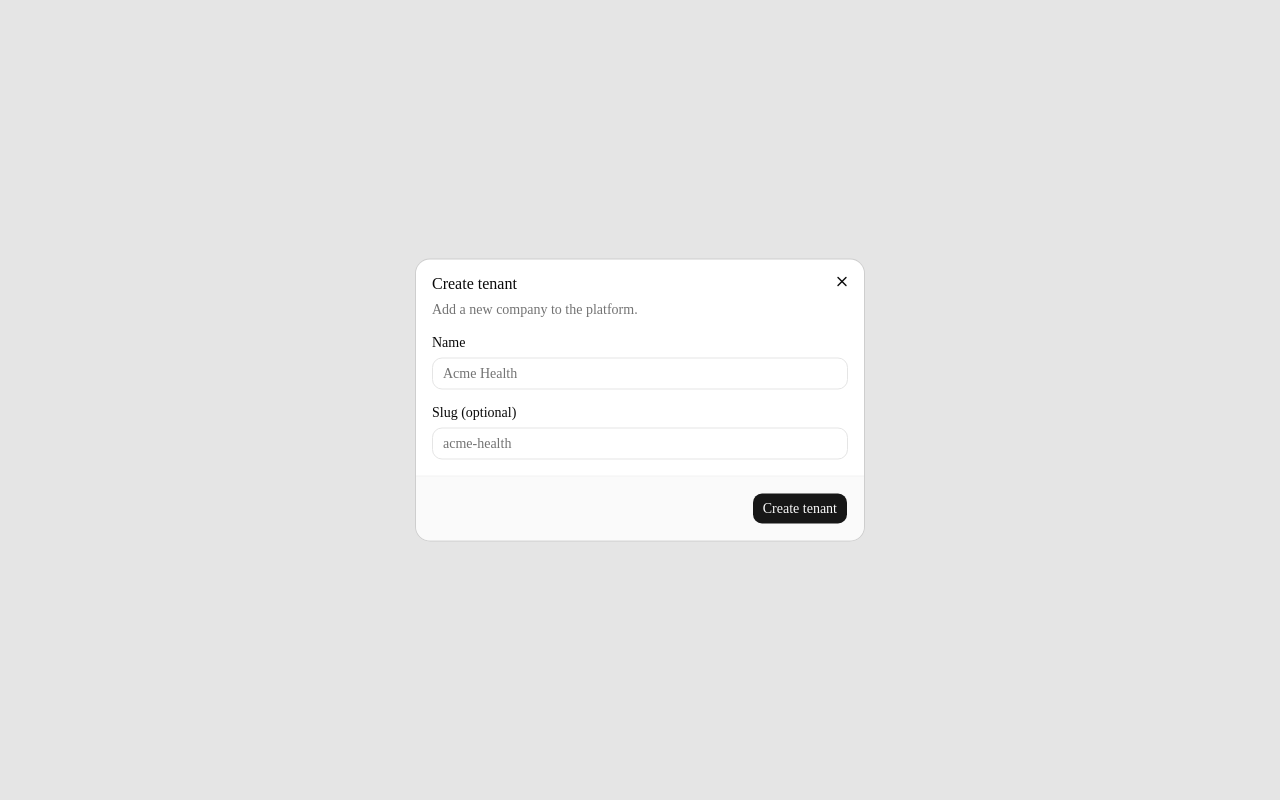
Test case: TenantFormDialog › surfaces a server error returned by the action
The image size is (1280, 800).
In the field labelled "Name": (640, 374) [432, 358, 848, 390], type "Dup"
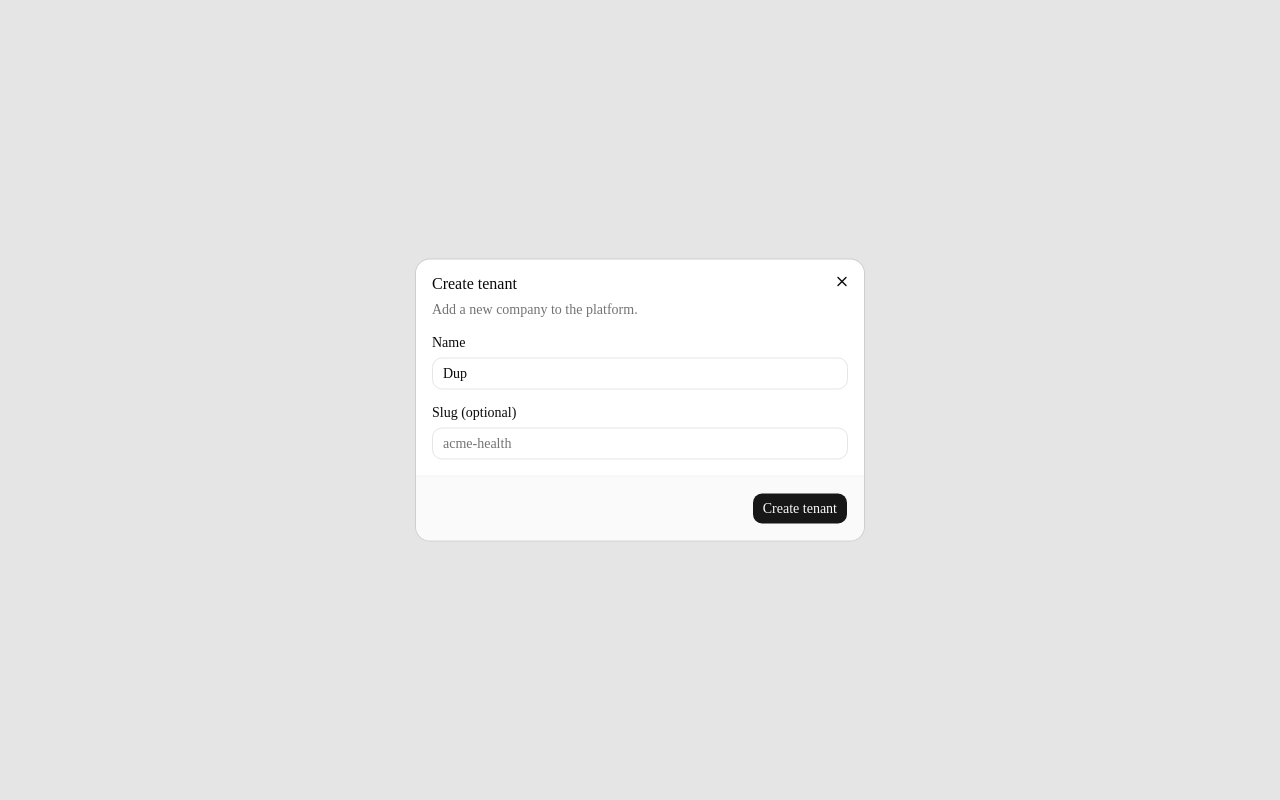
Click the button "Create tenant": (800, 508) [752, 492, 848, 524]
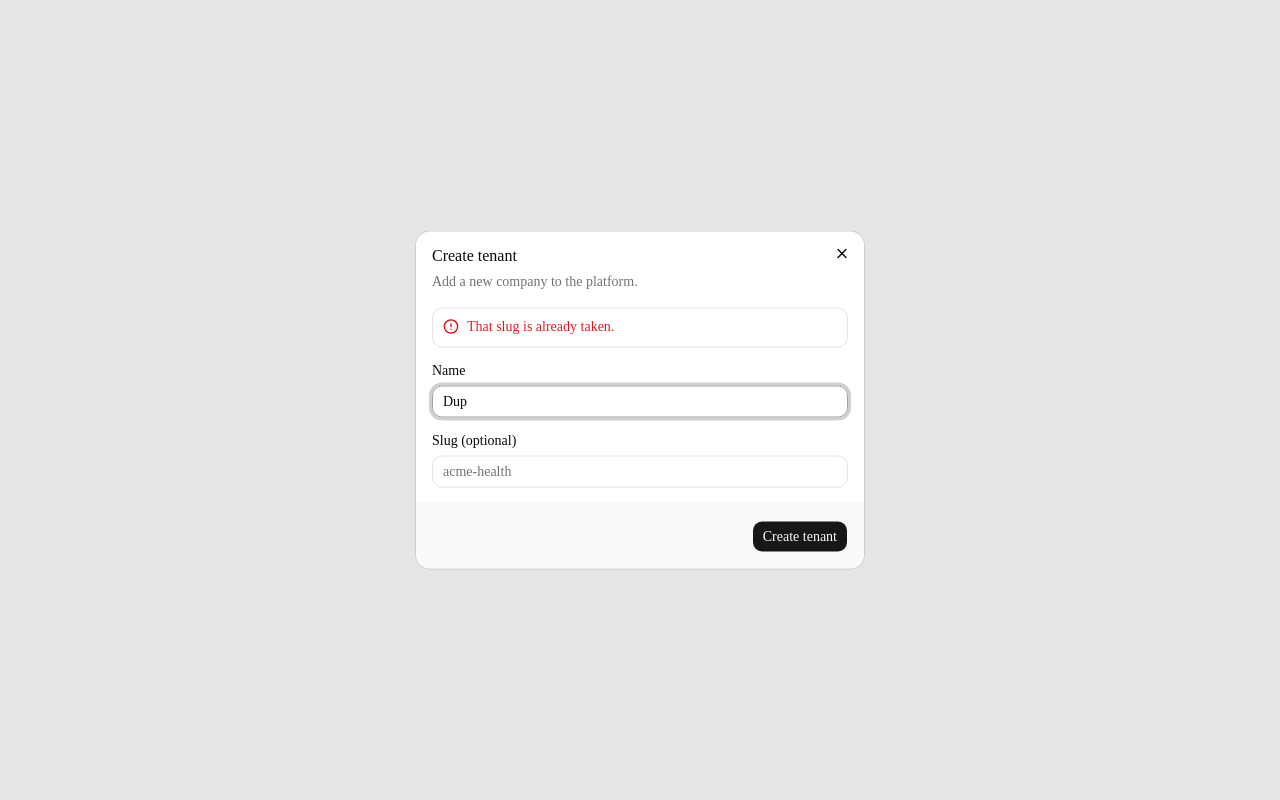
Now the text "That slug is already taken." is shown, box [467, 318, 614, 334]
